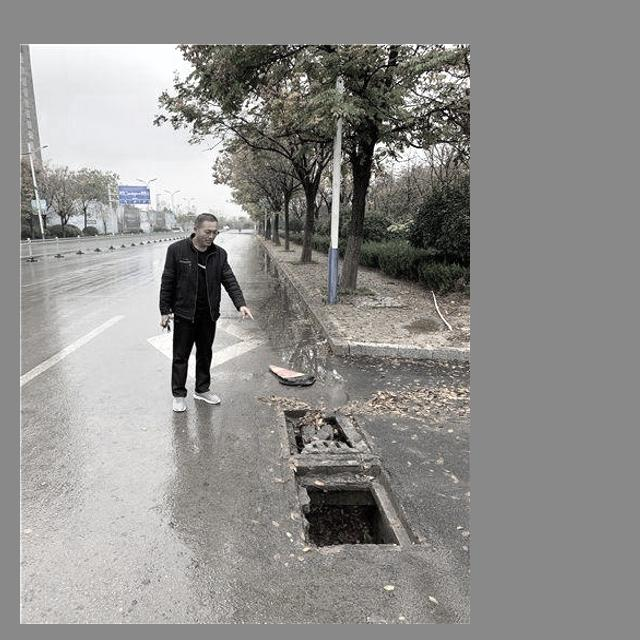lose: (277, 397, 419, 554)
